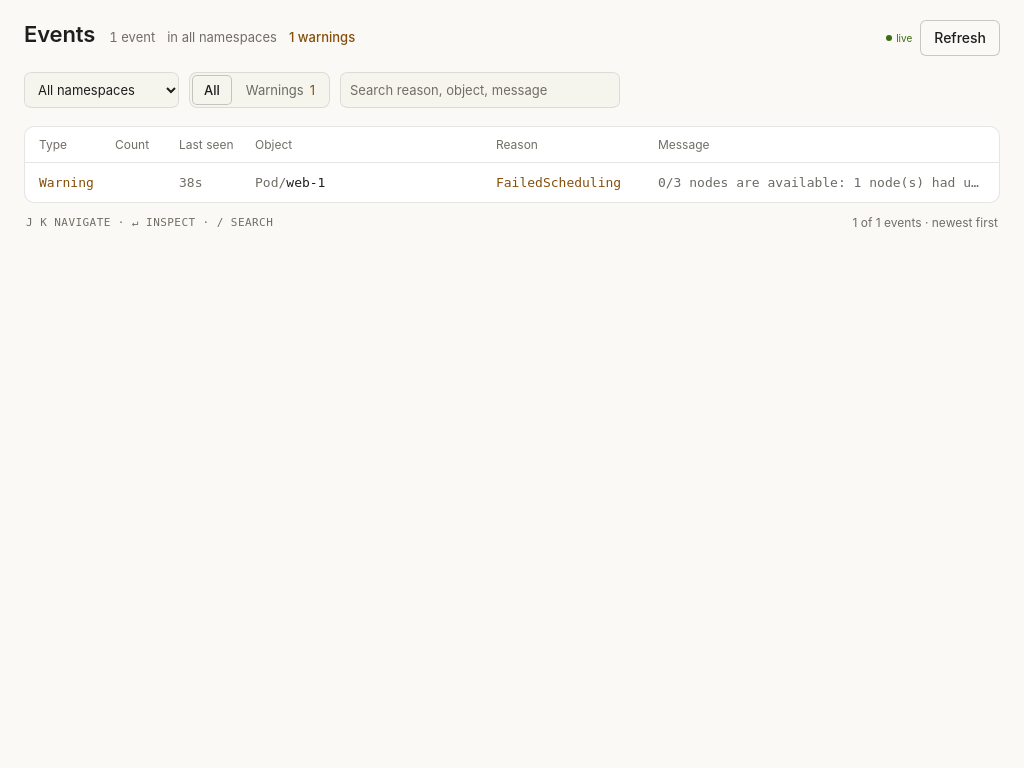
Test: EventsView (redesign step 5) › the full message lives in the inspector, wrapped - never truncated-only
Click the button with class "lens-row" at point(512, 183), box 25,163 -> 999,203
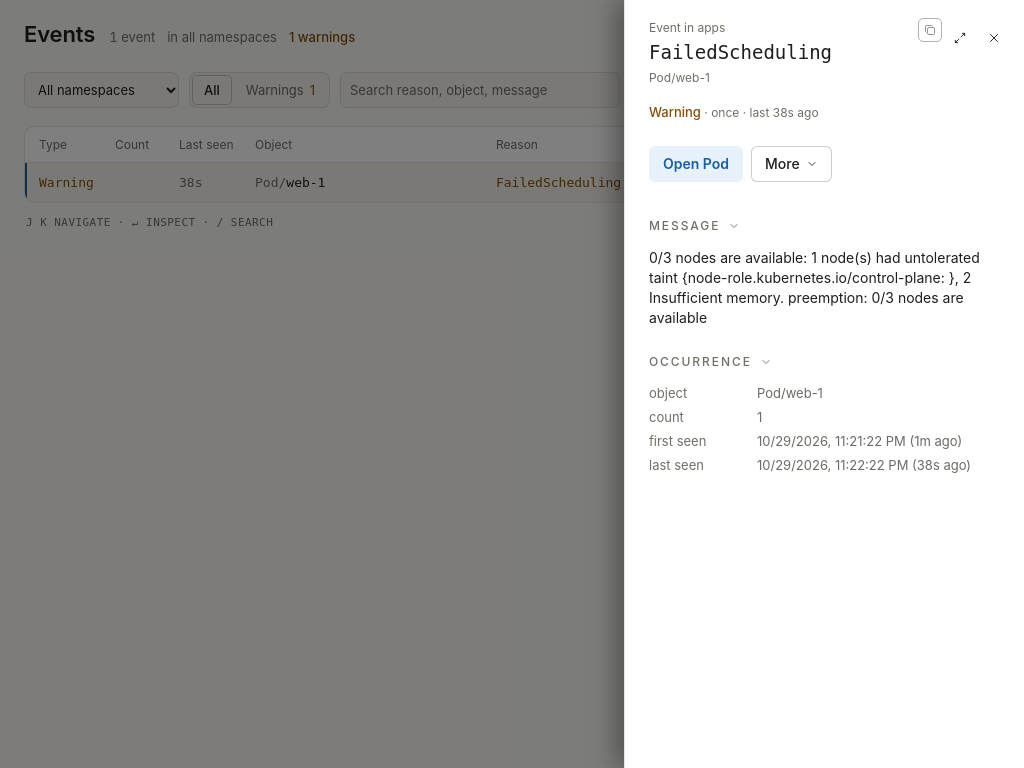
Check: the text "0/3 nodes are available: 1 node(s) had untolerated taint {node-role.kubernetes.io/control-plane: }, 2 Insufficient memor" is shown, box 649,249 -> 984,326
Check: the heading "FailedScheduling" is shown, box 649,41 -> 832,63
